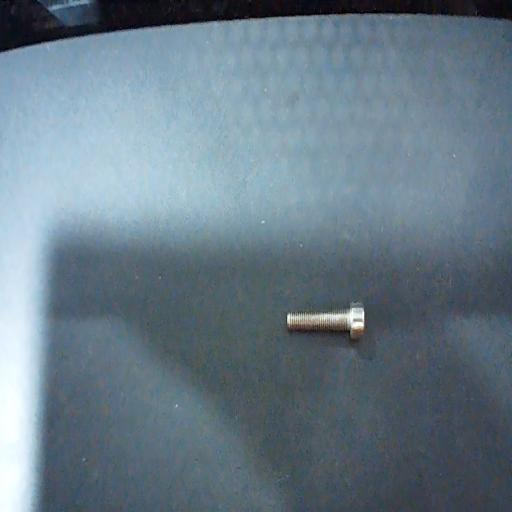screw: (286, 304, 364, 342)
